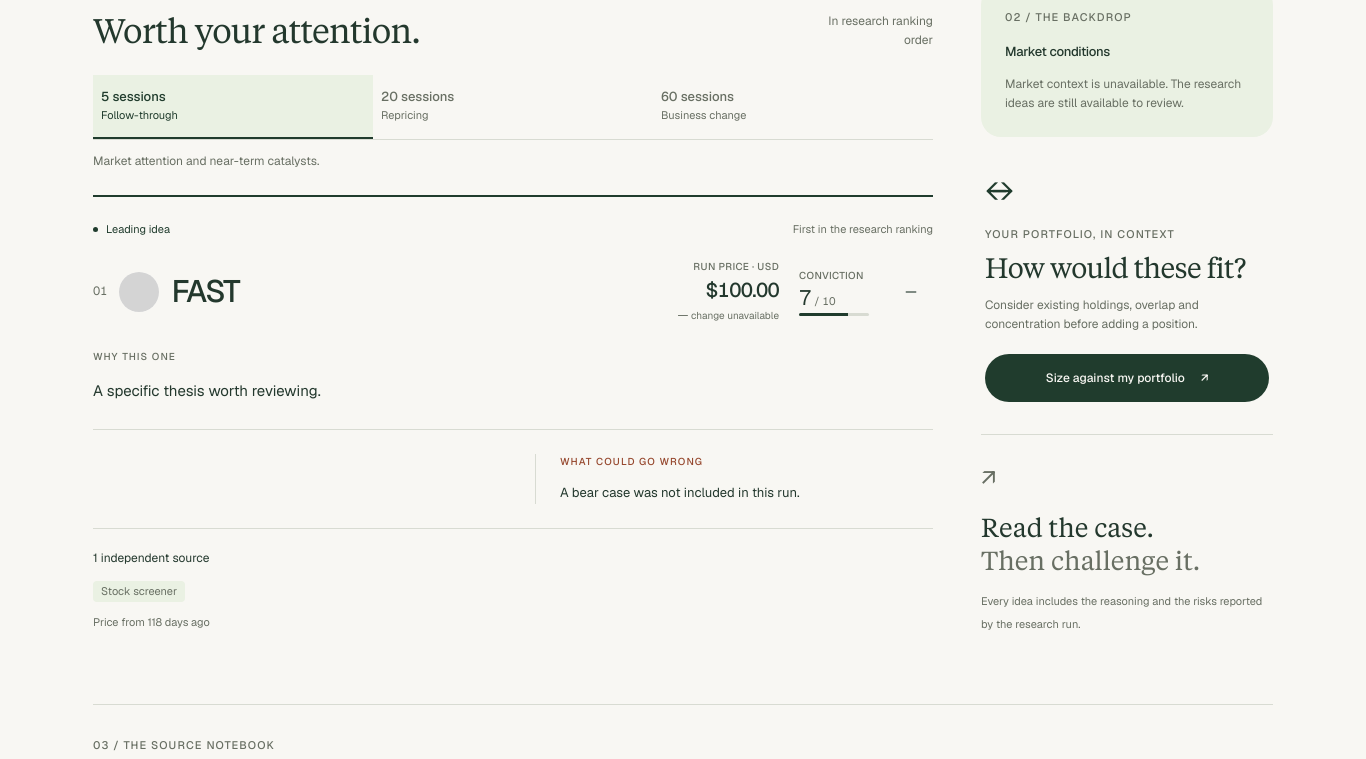
research briefing › discards an old horizon sizing response after the user switches lists
(page scrolled)
Click the button "Size against my portfolio ↗": (1127, 378) [985,354,1269,402]
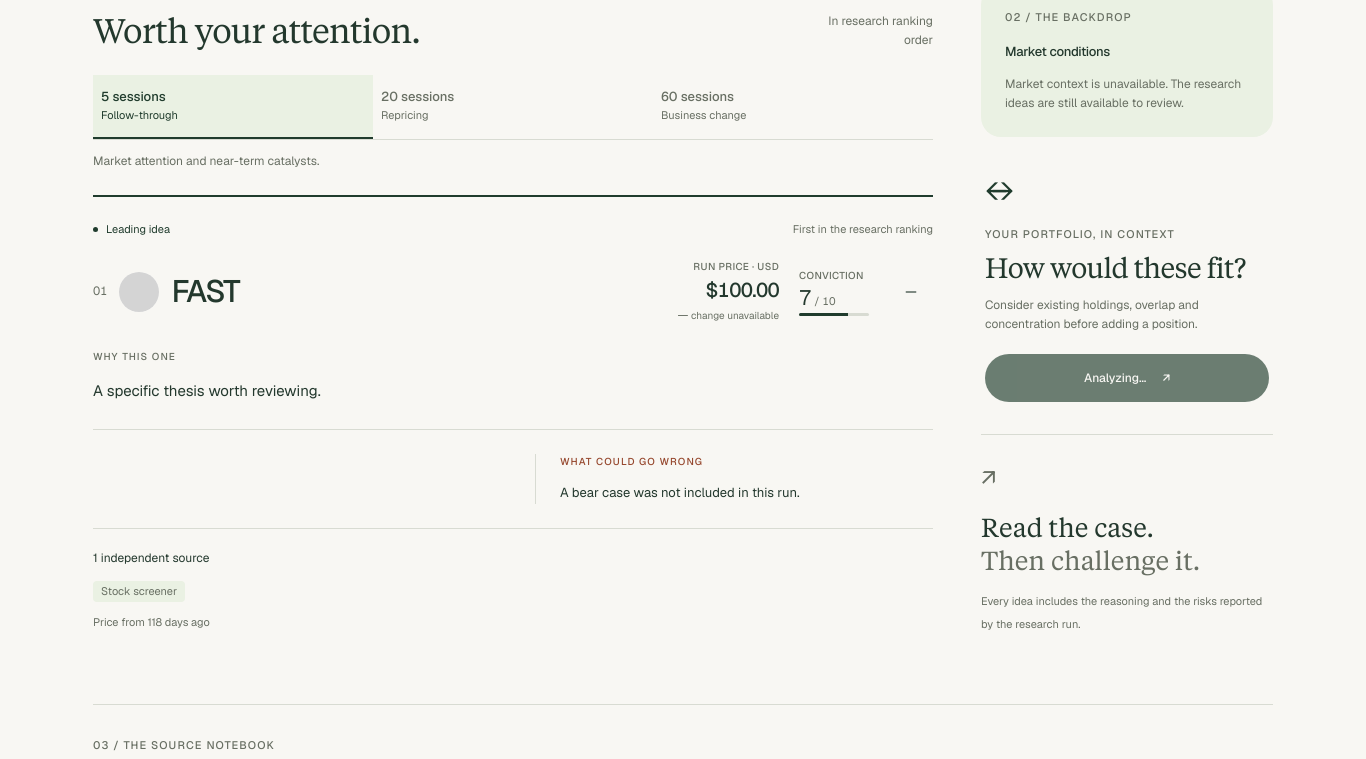
Click the button "20 sessions Repricing": (426, 96) [373,75,653,139]
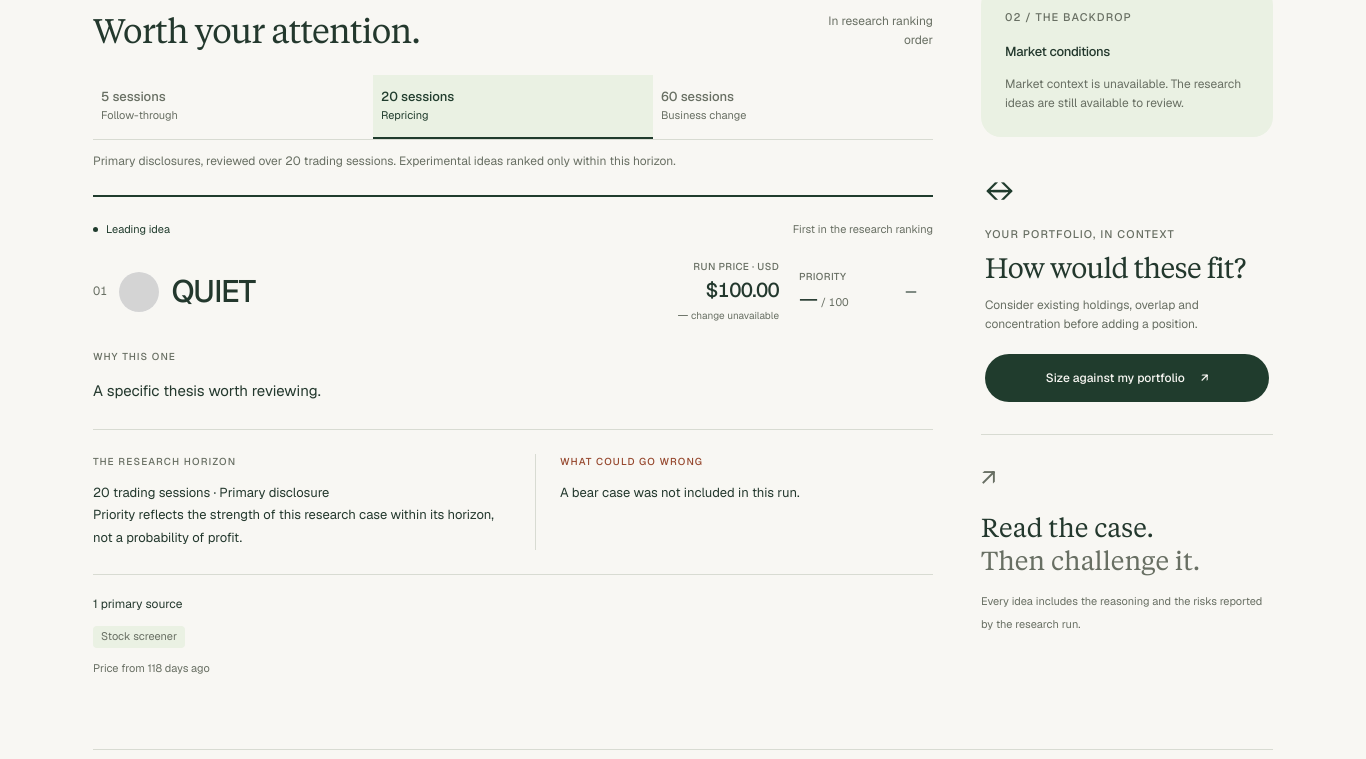
Now the button "Size against my portfolio ↗" is enabled, box [985,354,1269,402]
